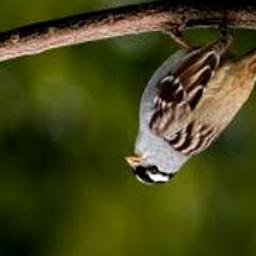Sparrow: (124, 9, 256, 187)
